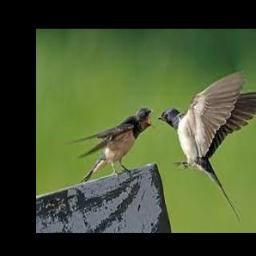Swallow: (158, 70, 256, 223), (67, 107, 155, 183)
